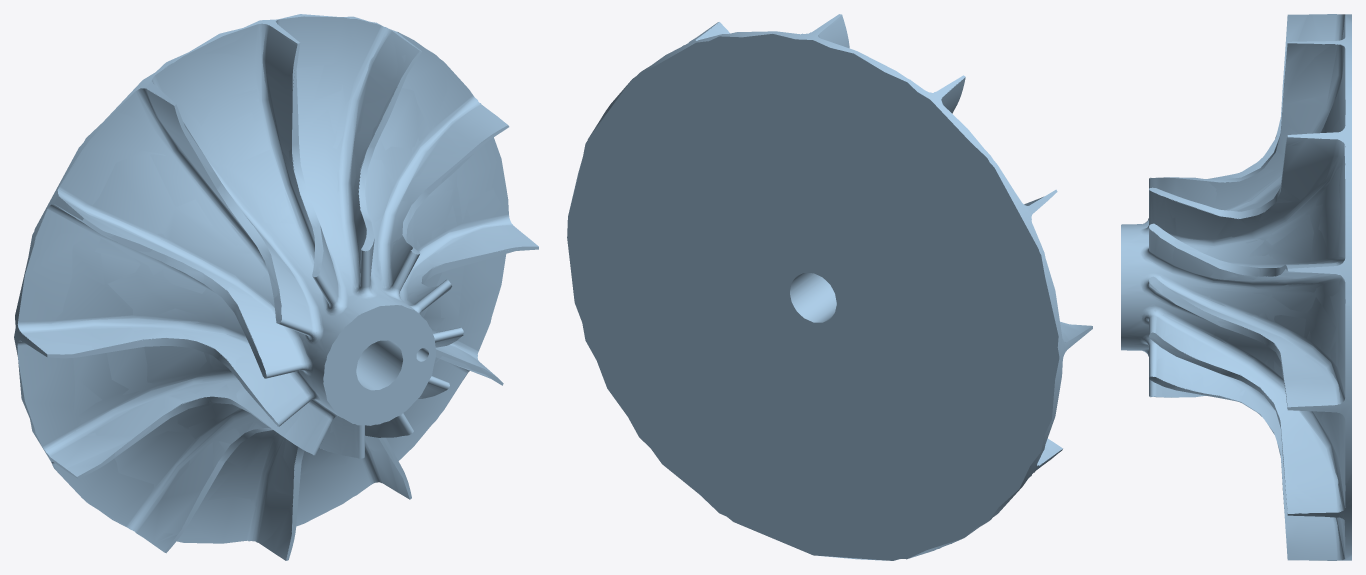
Rendered from 145275T013_002_MODEL_SOLIDS.gltf.
The picture shows the model from 3 angles, left to right: view 1: azimuth 30°, elevation 25°; view 2: azimuth 150°, elevation 25°; view 3: azimuth 270°, elevation 25°; orthographic projection. The views are drawn at different scales.
Visible parts, largest first — view 1: 145275T013_002_MODEL_SOLIDS; view 2: 145275T013_002_MODEL_SOLIDS; view 3: 145275T013_002_MODEL_SOLIDS.
Boxes of the visible parts, box(x1,y1,x2,y2) form: 145275T013_002_MODEL_SOLIDS: box(14, 14, 538, 560); 145275T013_002_MODEL_SOLIDS: box(567, 14, 1092, 560); 145275T013_002_MODEL_SOLIDS: box(1121, 14, 1351, 560).
Bounding box in the file's own units: 114 × 114 × 48.26.
